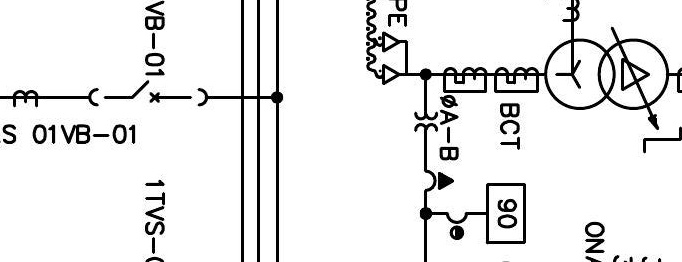11522_tx_dyn1: (543, 38, 670, 111)
22_breaker: (88, 79, 209, 108)
terminator_double: (382, 31, 409, 85)
